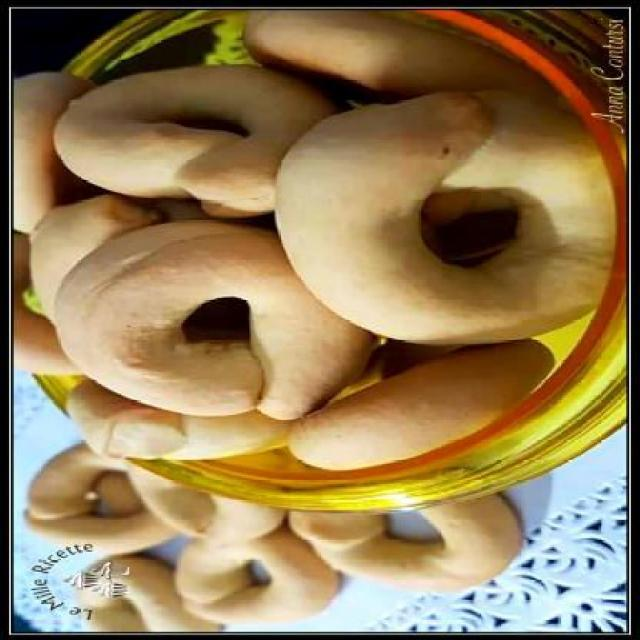Taralli: (21, 14, 592, 460)
